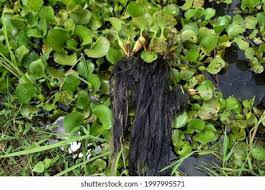water_hyacinth: (16, 0, 265, 159)
